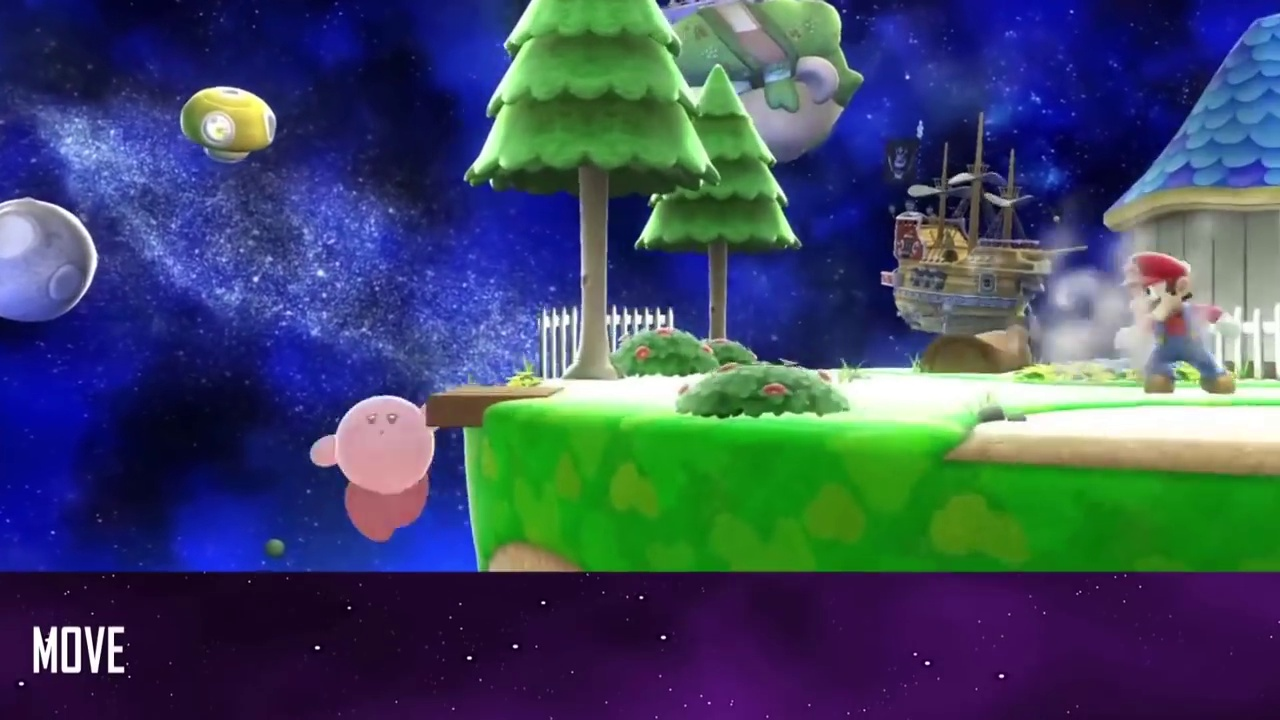Mario: (1116, 252, 1236, 397)
